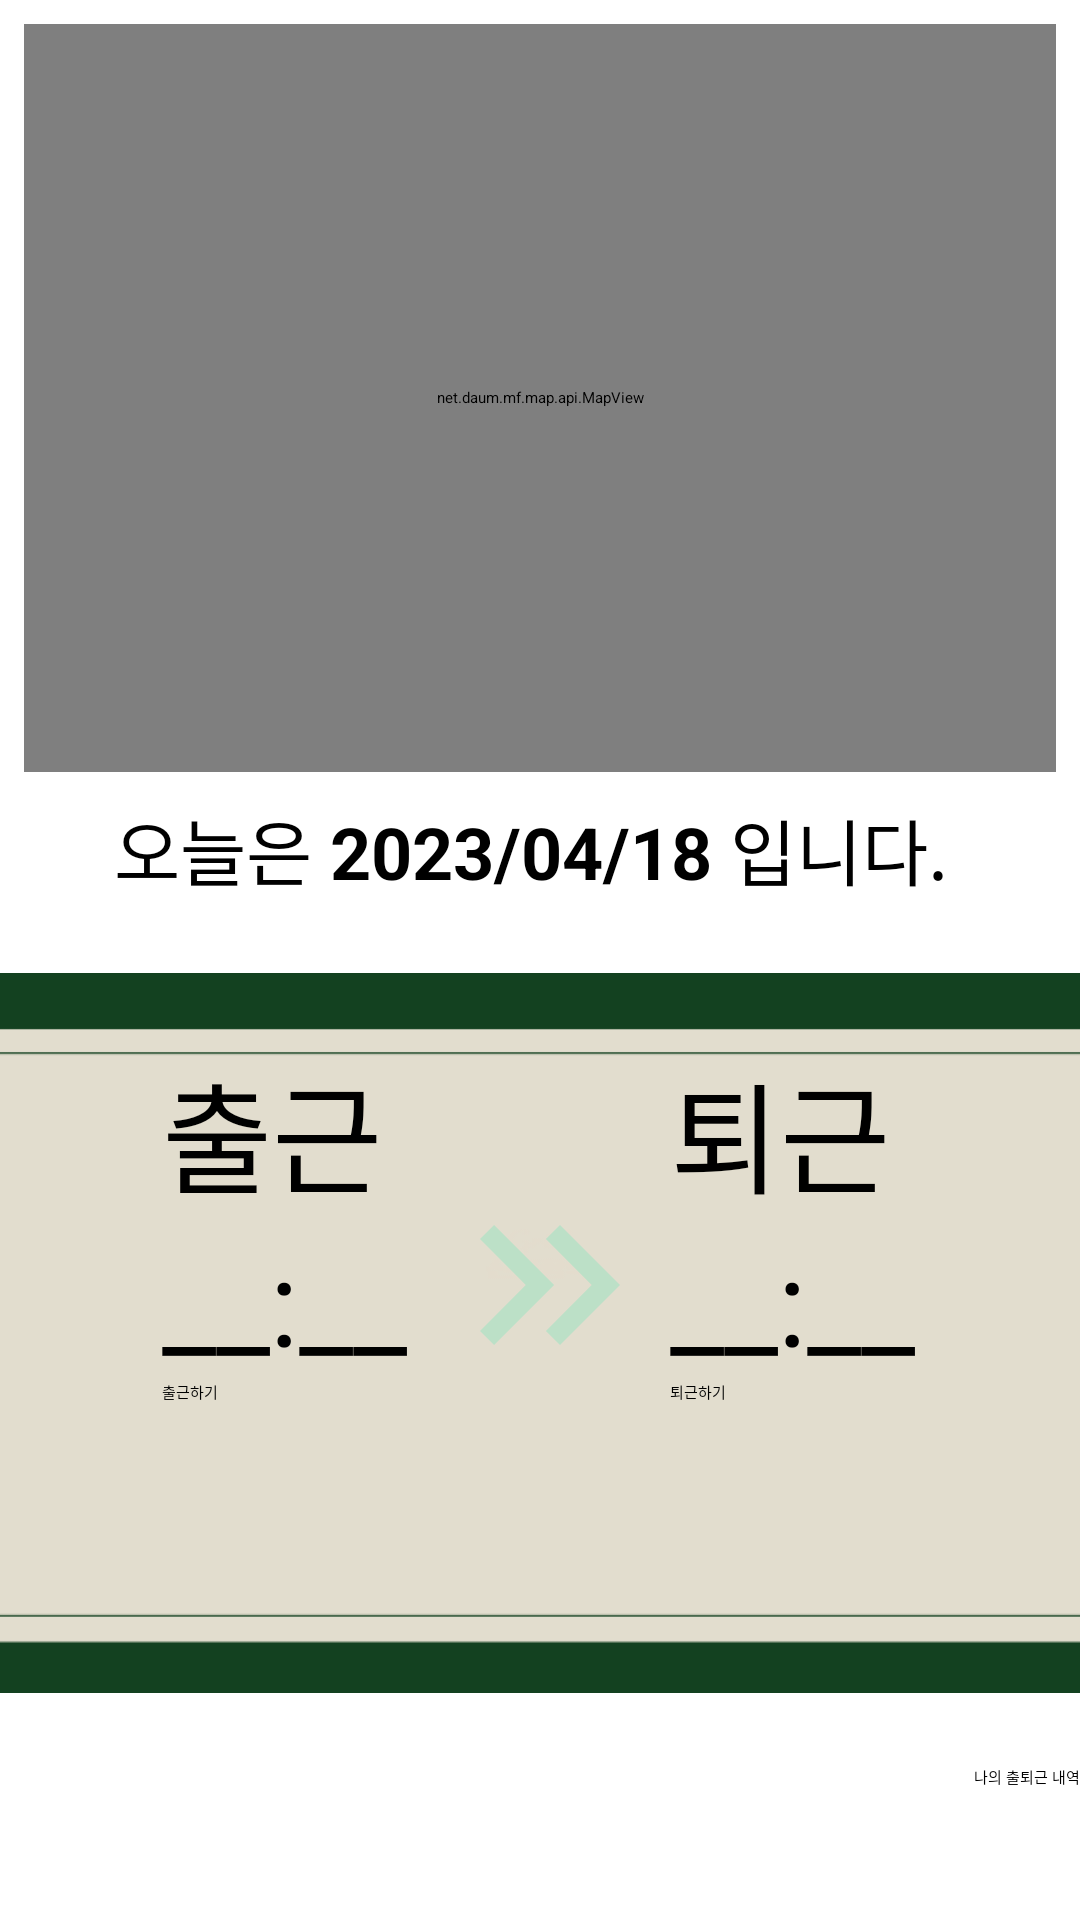

Where icons sit on this 1080px×1920px app screen, as (x1, y1, x2, y2):
keyboard double arrow right: (481, 1226, 619, 1344)
